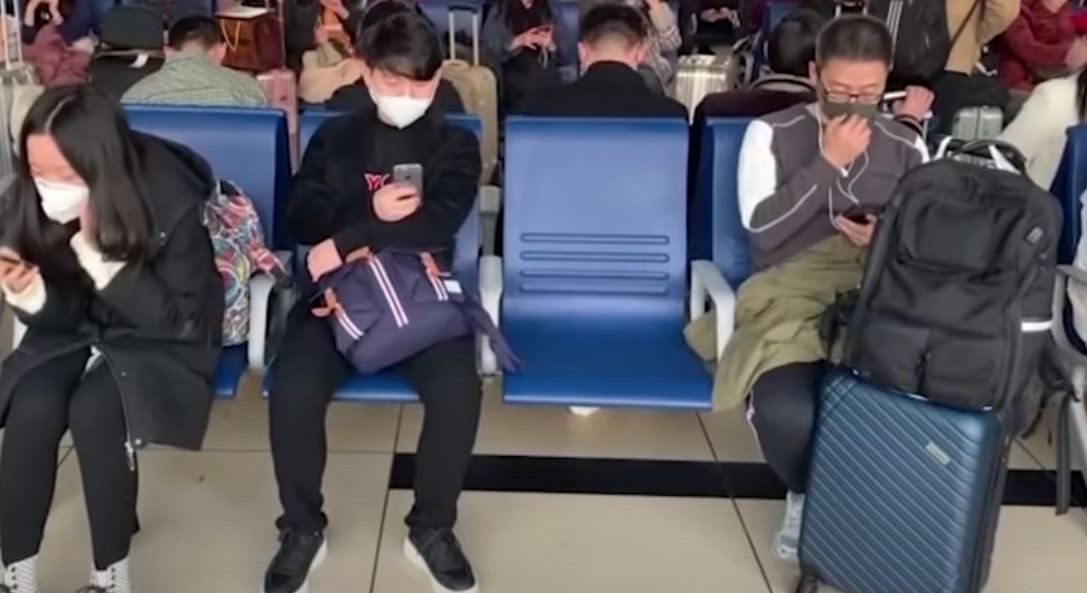face_with_mask: (12, 81, 127, 228), (354, 8, 452, 132), (809, 18, 892, 134)
